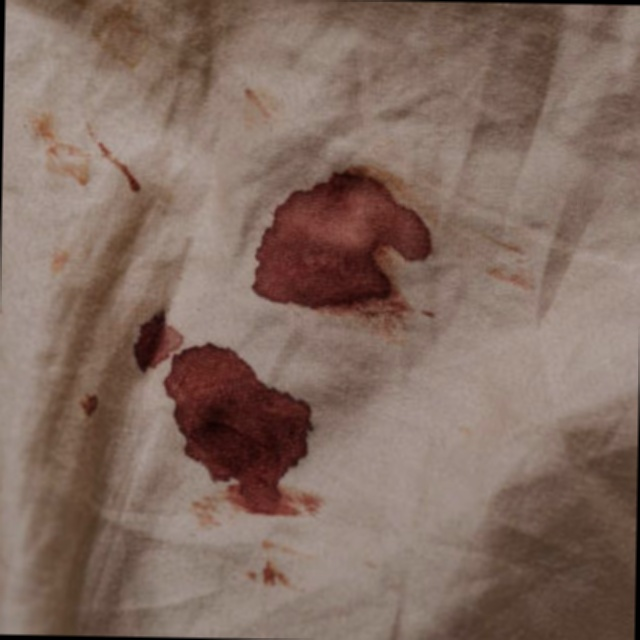blood: (126, 322, 322, 517), (251, 178, 427, 309)
